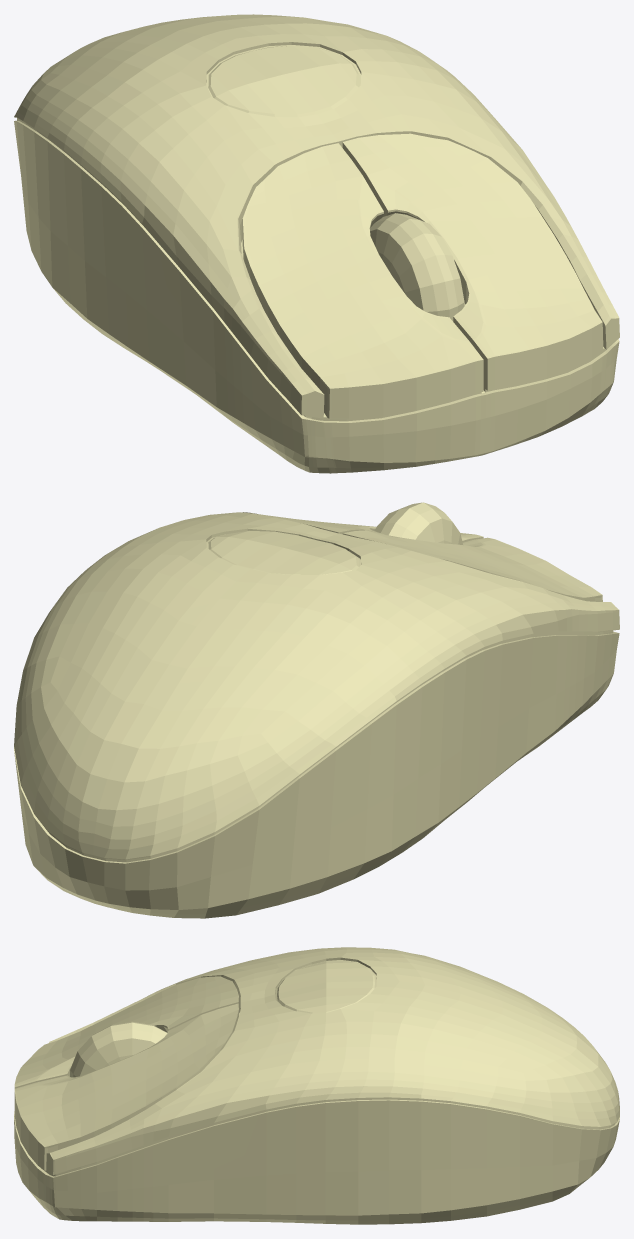
The model's file is mouse.gltf.
The picture shows the model from 3 angles, top to bottom: view 1: azimuth 30°, elevation 25°; view 2: azimuth 150°, elevation 25°; view 3: azimuth 270°, elevation 25°; orthographic projection. The views are drawn at different scales.
Visible parts, largest first — view 1: MouseBody005, ScrollWheel005__0; view 2: MouseBody005, ScrollWheel005__0; view 3: MouseBody005, ScrollWheel005__0.
Part boxes in pixels (<box>): MouseBody005: <box>14,14,619,473</box>; ScrollWheel005__0: <box>370,213,464,321</box>; MouseBody005: <box>14,512,619,918</box>; ScrollWheel005__0: <box>374,502,462,544</box>; MouseBody005: <box>14,947,619,1224</box>; ScrollWheel005__0: <box>70,1021,167,1077</box>.
Size of the model in its own units: 5.81 by 3.63 by 10.82.
